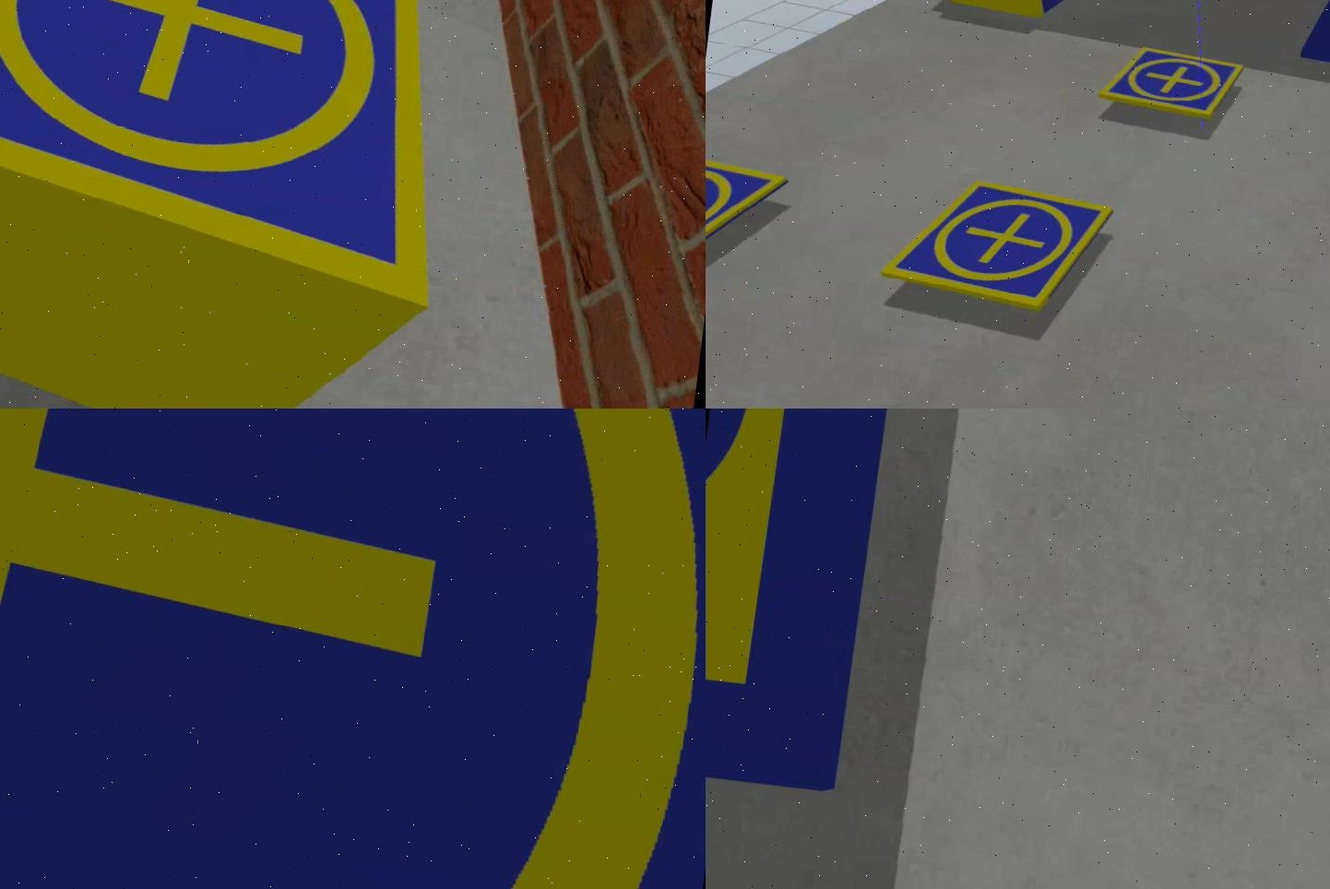large_base: (705, 409, 903, 790)
small_base: (0, 409, 705, 889), (0, 1, 484, 312), (874, 173, 1110, 315), (1097, 44, 1243, 123), (705, 159, 791, 266)
